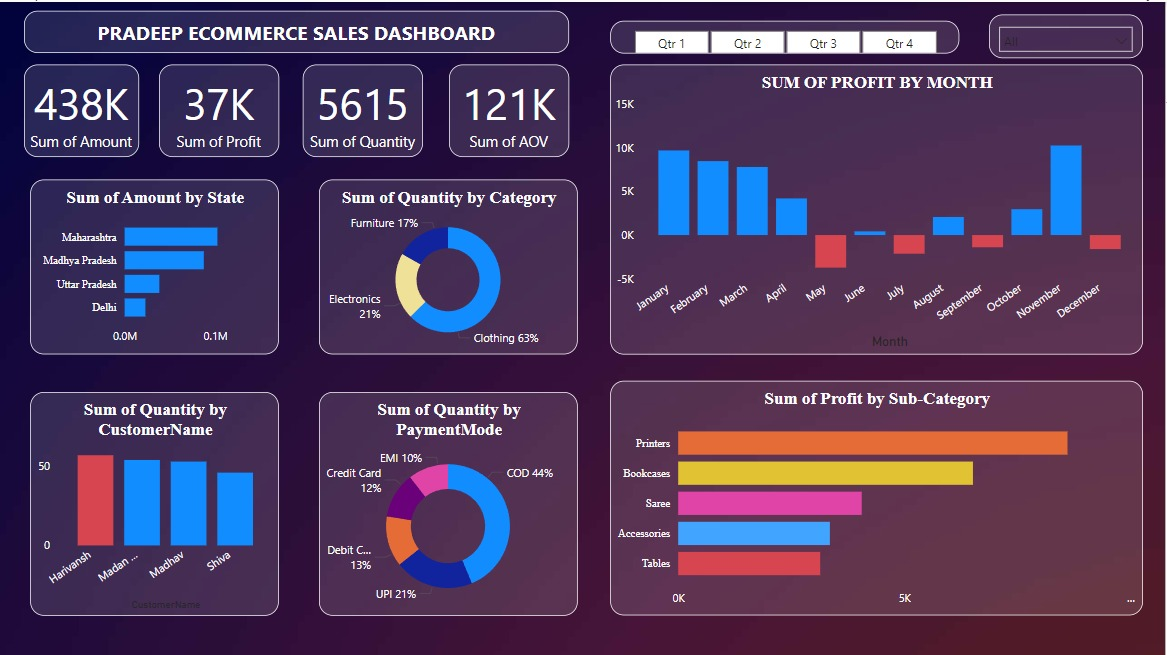

The page's visual inventory and layout, read from the dashboard file:
{"tool":"powerbi","page":{"name":"Page 1","canvas":[1280,720],"ordinal":0},"visuals":[{"type":"textbox","title":"PRADEEP ECOMMERCE SALES DASHBOARD","box":[27.4,9.6,598.3,46.7],"z":0},{"type":"columnChart","title":"SUM OF PROFIT BY MONTH","fields":{"Category":["Orders.Order Date.Variation.Date Hierarchy.Month"],"Y":["Details.Profit"]},"box":[671,68.6,584.6,318.4],"z":1000},{"type":"barChart","fields":{"Category":["Details.Sub-Category"],"Y":["Details.Profit"]},"box":[671,415.8,584.6,258],"z":1001},{"type":"donutChart","fields":{"Category":["Details.Category"],"Y":["Details.Quantity"]},"box":[351.3,194.9,284,192.1],"z":1002},{"type":"donutChart","fields":{"Category":["Details.PaymentMode"],"Y":["Details.Quantity"]},"box":[351.3,428.1,284,245.6],"z":1003},{"type":"card","fields":{"Values":["Details.Amount"]},"box":[27.4,68.6,126.2,101.5],"z":1004},{"type":"card","fields":{"Values":["Details.Profit"]},"box":[175.6,68.6,131.7,101.5],"z":1005},{"type":"card","fields":{"Values":["Details.Quantity"]},"box":[333.4,68.6,131.7,101.5],"z":1006},{"type":"card","fields":{"Values":["Details.AOV"]},"box":[494,68.6,131.7,101.5],"z":1007},{"type":"barChart","fields":{"Category":["Orders.State"],"Y":["Details.Amount"]},"box":[34.3,194.9,273.1,192.1],"z":1008},{"type":"columnChart","fields":{"Category":["Orders.CustomerName"],"Y":["Details.Quantity"]},"box":[34.3,428.1,273.1,245.6],"z":1009},{"type":"slicer","fields":{"Values":["Orders.Order Date.Variation.Date Hierarchy.Quarter"]},"box":[671,20.6,382.8,35.7],"z":1010},{"type":"slicer","fields":{"Values":["Orders.State"]},"box":[1086.8,13.7,168.8,48],"z":1011}]}

Visuals, with their boxes in screenshot pixels (x1, y1, x2, y2), scaled from the page's 1280x720 canvas onto the 1167x655 screenshot:
"PRADEEP ECOMMERCE SALES DASHBOARD" textbox: select_region(25, 9, 570, 51)
"SUM OF PROFIT BY MONTH" columnChart: select_region(612, 62, 1145, 352)
barChart - Details.Sub-Category x Details.Profit: select_region(612, 378, 1145, 613)
donutChart - Details.Category x Details.Quantity: select_region(320, 177, 579, 352)
donutChart - Details.PaymentMode x Details.Quantity: select_region(320, 389, 579, 613)
card - Details.Amount: select_region(25, 62, 140, 155)
card - Details.Profit: select_region(160, 62, 280, 155)
card - Details.Quantity: select_region(304, 62, 424, 155)
card - Details.AOV: select_region(450, 62, 570, 155)
barChart - Orders.State x Details.Amount: select_region(31, 177, 280, 352)
columnChart - Orders.CustomerName x Details.Quantity: select_region(31, 389, 280, 613)
slicer - Orders.Order Date.Variation.Date Hierarchy.Quarter: select_region(612, 19, 961, 51)
slicer - Orders.State: select_region(991, 12, 1145, 56)
